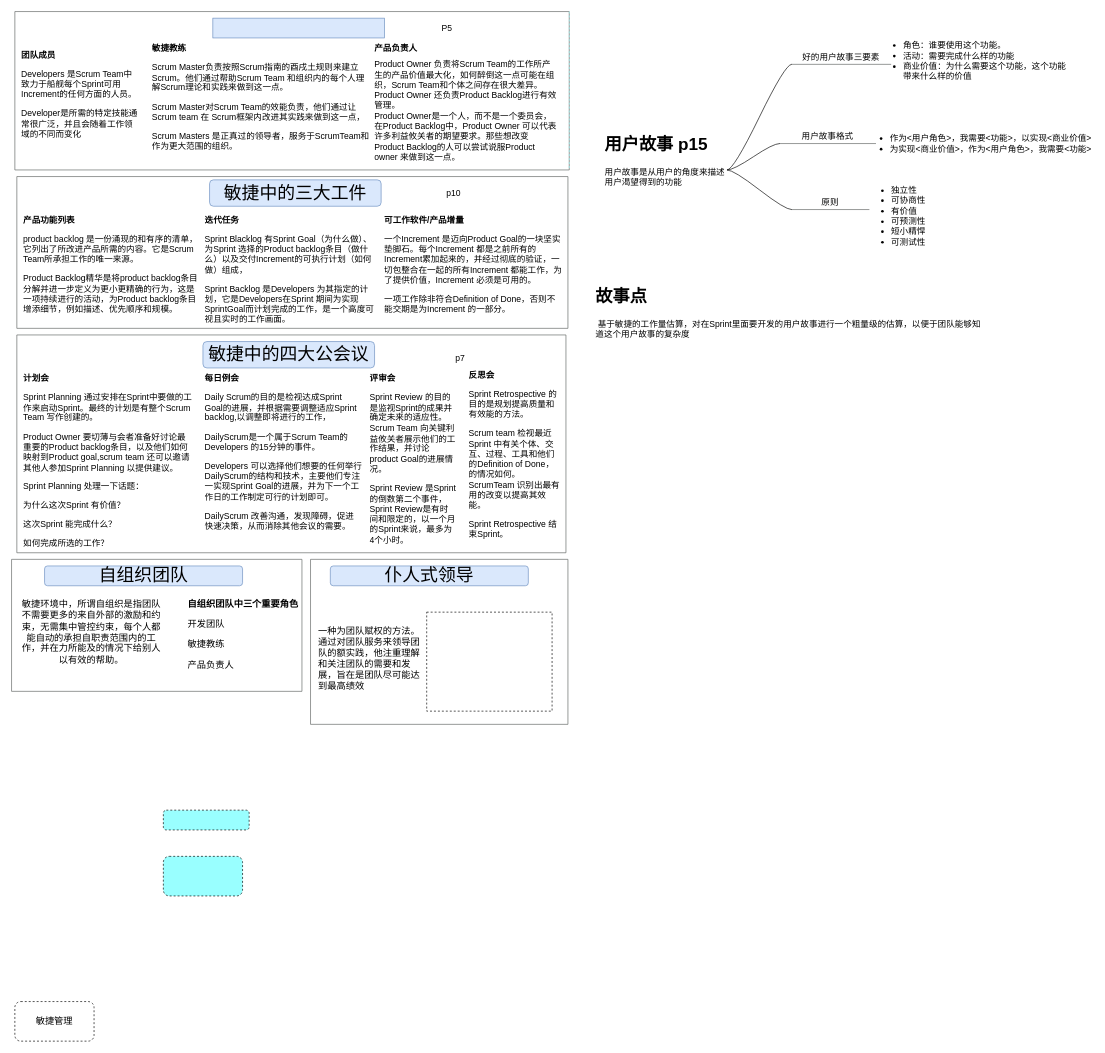
This 1105x1053 diagram has some shape labels left out. Each missing label, with the centre of its shape:
敏捷中的三种角色: the point at 298,27
最小可能性产品: the point at 206,819
特征 提升自我意识 倾听 为团队服务 帮助他人成长 引导与控制 促进安全、尊重与责任 促进他人精力和才智提升: the point at 489,661
